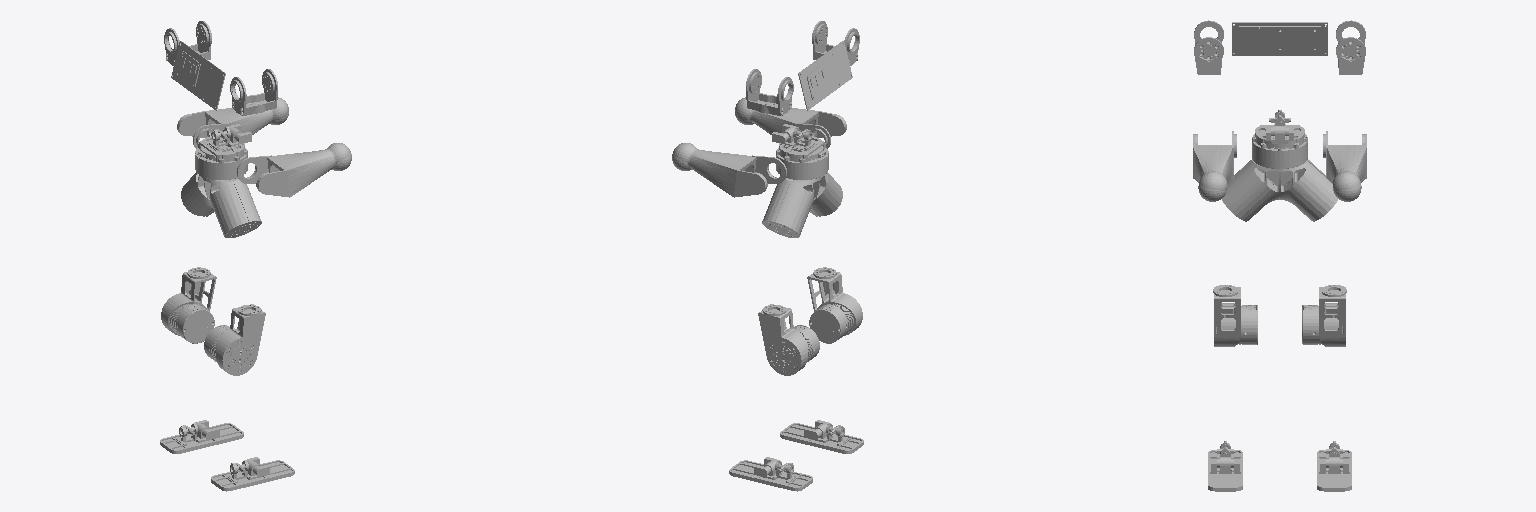
--- Render facts (derived) ---
Views: 3 orthographic renders of the robot side by side, from view 1: azimuth 30°, elevation 25°; view 2: azimuth 150°, elevation 25°; view 3: azimuth 270°, elevation 25°.
Robot: h780a_asm.SLDASM — 28 links, 27 joints (23 revolute, 4 fixed); root link base_link; default pose: all joints at 0.
Visible links, largest first — view 1: right_elbow_pitch_link, base_link, right_hip_yaw_link, left_hip_yaw_link, waist_yaw_link, left_elbow_pitch_link, imu_link, right_ankle_roll_link, left_ankle_roll_link, right_shoulder_roll_link, left_shoulder_roll_link; view 2: left_elbow_pitch_link, base_link, left_hip_yaw_link, right_hip_yaw_link, waist_yaw_link, right_elbow_pitch_link, imu_link, left_ankle_roll_link, right_ankle_roll_link, left_shoulder_roll_link, right_shoulder_roll_link; view 3: base_link, imu_link, waist_yaw_link, right_hip_yaw_link, left_hip_yaw_link, left_elbow_pitch_link, right_elbow_pitch_link, left_ankle_roll_link, right_ankle_roll_link, left_shoulder_roll_link, right_shoulder_roll_link.
Link boxes in pixels (<box>): right_elbow_pitch_link: <box>237,143,350,197</box>; base_link: <box>181,172,261,237</box>; right_hip_yaw_link: <box>204,304,265,375</box>; left_hip_yaw_link: <box>161,267,216,343</box>; waist_yaw_link: <box>195,124,251,179</box>; left_elbow_pitch_link: <box>177,97,288,148</box>; imu_link: <box>171,41,225,110</box>; right_ankle_roll_link: <box>211,457,294,491</box>; left_ankle_roll_link: <box>160,420,243,453</box>; right_shoulder_roll_link: <box>230,69,277,115</box>; left_shoulder_roll_link: <box>164,21,211,65</box>; left_elbow_pitch_link: <box>673,143,786,197</box>; base_link: <box>762,172,842,237</box>; left_hip_yaw_link: <box>758,304,819,375</box>; right_hip_yaw_link: <box>807,267,862,343</box>; waist_yaw_link: <box>772,124,828,179</box>; right_elbow_pitch_link: <box>735,97,846,148</box>; imu_link: <box>798,41,852,110</box>; left_ankle_roll_link: <box>729,457,812,491</box>; right_ankle_roll_link: <box>780,420,863,453</box>; left_shoulder_roll_link: <box>746,69,793,115</box>; right_shoulder_roll_link: <box>812,21,859,65</box>; base_link: <box>1222,160,1337,221</box>; imu_link: <box>1232,22,1327,55</box>; waist_yaw_link: <box>1252,110,1307,168</box>; right_hip_yaw_link: <box>1213,285,1257,346</box>; left_hip_yaw_link: <box>1302,285,1346,346</box>; left_elbow_pitch_link: <box>1323,131,1366,190</box>; right_elbow_pitch_link: <box>1193,131,1236,190</box>; left_ankle_roll_link: <box>1317,441,1351,491</box>; right_ankle_roll_link: <box>1208,441,1242,491</box>; left_shoulder_roll_link: <box>1336,20,1365,74</box>; right_shoulder_roll_link: <box>1194,20,1223,74</box>.
Bounding box of the posed robot: 0.2205 × 0.244 × 0.678 m (x, y, z).
14 mesh visuals loaded from 26 distinct referenced files (14 binary STL); not drawn: 12 (reference not matched to a file when rendering).

robot.urdf — h780a_asm.SLDASM:
<?xml version='1.0' encoding='utf-8'?>
<robot name="h780a_asm.SLDASM">
  <link name="base_link">
    <inertial>
      <origin xyz="-0.000608839400159668 -2.48606142651706E-05 0.0185366559303592" rpy="0 0 0" />
      <mass value="1.01914368" />
      <inertia ixx="0.00255038" ixy="0.00000039" ixz="0.00001327" iyy="0.00071478" iyz="0.00000166" izz="0.00236144" />
    </inertial>
    <visual>
      <origin xyz="0 0 0" rpy="0 0 0" />
      <geometry>
        <mesh filename="meshes/base_link.STL" />
      </geometry>
      <material name="">
        <color rgba="0.752941176470588 0.752941176470588 0.752941176470588 1" />
      </material>
    </visual>
    <collision>
      <origin xyz="0 0 0" rpy="0 0 0" />
      <geometry>
        <mesh filename="meshes/base_link.STL" />
      </geometry>
    </collision>
  </link>
  <link name="left_hip_pitch_link">
    <inertial>
      <origin xyz="-0.00367018673699777 0.0303085638249689 -0.014826132332809" rpy="0 0 0" />
      <mass value="0.37173446" />
      <inertia ixx="0.00022549" ixy="-0.00000031" ixz="-0.00000415" iyy="0.00023463" iyz="0.00000067" izz="0.00022051" />
    </inertial>
    <visual>
      <origin xyz="0 0 0" rpy="0 0 0" />
      <geometry>
        <mesh filename="meshes/left_hip_pitch_link.STL" />
      </geometry>
      <material name="">
        <color rgba="0.752941176470588 0.752941176470588 0.752941176470588 1" />
      </material>
    </visual>
    <collision>
      <origin xyz="0 0 0" rpy="0 0 0" />
      <geometry>
        <mesh filename="meshes/left_hip_pitch_link.STL" />
      </geometry>
    </collision>
  </link>
  <joint name="left_hip_pitch_joint" type="revolute">
    <origin xyz="0 0.064627 -0.009421" rpy="-0.7854 0 0" />
    <parent link="base_link" />
    <child link="left_hip_pitch_link" />
    <axis xyz="0 1 0" />
    <limit lower="-2.5307" upper="2.8797" effort="34" velocity="8.6917" />
  </joint>
  <link name="left_hip_roll_link">
    <inertial>
      <origin xyz="-0.00102397487211744 0.00036482482680926 -0.0522763821229738" rpy="0 0 0" />
      <mass value="0.40622809" />
      <inertia ixx="0.00044245" ixy="0.00000046" ixz="-0.00005459" iyy="0.00045225" iyz="0.00000242" izz="0.00022192" />
    </inertial>
    <visual>
      <origin xyz="0 0 0" rpy="0 0 0" />
      <geometry>
        <mesh filename="meshes/left_hip_roll_link.STL" />
      </geometry>
      <material name="">
        <color rgba="0.752941176470588 0.752941176470588 0.752941176470588 1" />
      </material>
    </visual>
    <collision>
      <origin xyz="0 0 0" rpy="0 0 0" />
      <geometry>
        <mesh filename="meshes/left_hip_roll_link.STL" />
      </geometry>
    </collision>
  </link>
  <joint name="left_hip_roll_joint" type="revolute">
    <origin xyz="0.014 0.0325 -0.016417" rpy="0.7854 0 0" />
    <parent link="left_hip_pitch_link" />
    <child link="left_hip_roll_link" />
    <axis xyz="1 0 0" />
    <limit lower="-2.3561" upper="1.1344" effort="14" velocity="27.227" />
  </joint>
  <link name="left_hip_yaw_link">
    <inertial>
      <origin xyz="-0.0202458881888117 -0.00554365759553843 -0.0552408872968055" rpy="0 0 0" />
      <mass value="0.45505975" />
      <inertia ixx="0.00036750" ixy="-0.00001161" ixz="-0.00004387" iyy="0.00033281" iyz="-0.00001265" izz="0.00030134" />
    </inertial>
    <visual>
      <origin xyz="0 0 0" rpy="0 0 0" />
      <geometry>
        <mesh filename="meshes/left_hip_yaw_link.STL" />
      </geometry>
      <material name="">
        <color rgba="0.752941176470588 0.752941176470588 0.752941176470588 1" />
      </material>
    </visual>
    <collision>
      <origin xyz="0 0 0" rpy="0 0 0" />
      <geometry>
        <mesh filename="meshes/left_hip_yaw_link.STL" />
      </geometry>
    </collision>
  </link>
  <joint name="left_hip_yaw_joint" type="revolute">
    <origin xyz="-0.009 0 -0.094" rpy="0 0 0" />
    <parent link="left_hip_roll_link" />
    <child link="left_hip_yaw_link" />
    <axis xyz="0 0 1" />
    <limit lower="-2.7576" upper="2.7576" effort="14" velocity="27.2271" />
  </joint>
  <link name="left_knee_pitch_link">
    <inertial>
      <origin xyz="0.0106900580465391 -0.0131440176539647 -0.0900758071495541" rpy="0 0 0" />
      <mass value="0.93760765" />
      <inertia ixx="0.00202162" ixy="0.00000466" ixz="0.00003683" iyy="0.00197911" iyz="-0.00010931" izz="0.00058500" />
    </inertial>
    <visual>
      <origin xyz="0 0 0" rpy="0 0 0" />
      <geometry>
        <mesh filename="meshes/left_knee_pitch_link.STL" />
      </geometry>
      <material name="">
        <color rgba="0.752941176470588 0.752941176470588 0.752941176470588 1" />
      </material>
    </visual>
    <collision>
      <origin xyz="0 0 0" rpy="0 0 0" />
      <geometry>
        <mesh filename="meshes/left_knee_pitch_link.STL" />
      </geometry>
    </collision>
  </link>
  <joint name="left_knee_pitch_joint" type="revolute">
    <origin xyz="-0.026 0.016 -0.065783" rpy="0 0 0" />
    <parent link="left_hip_yaw_link" />
    <child link="left_knee_pitch_link" />
    <axis xyz="0 1 0" />
    <limit lower="-0.0872" upper="2.6703" effort="34" velocity="8.6917" />
  </joint>
  <link name="left_ankle_pitch_link">
    <inertial>
      <origin xyz="0 6.98468129727015E-06 -3.46944695195361E-18" rpy="0 0 0" />
      <mass value="0.01165757" />
      <inertia ixx="0.00000052" ixy="0" ixz="0" iyy="0.00000025" iyz="0" izz="0.00000070" />
    </inertial>
    <visual>
      <origin xyz="0 0 0" rpy="0 0 0" />
      <geometry>
        <mesh filename="meshes/left_ankle_pitch_link.STL" />
      </geometry>
      <material name="">
        <color rgba="0.752941176470588 0.752941176470588 0.752941176470588 1" />
      </material>
    </visual>
    <collision>
      <origin xyz="0 0 0" rpy="0 0 0" />
      <geometry>
        <mesh filename="meshes/left_ankle_pitch_link.STL" />
      </geometry>
    </collision>
  </link>
  <joint name="left_ankle_pitch_joint" type="revolute">
    <origin xyz="0.0085 -0.016 -0.191" rpy="0 0 0" />
    <parent link="left_knee_pitch_link" />
    <child link="left_ankle_pitch_link" />
    <axis xyz="0 1 0" />
    <limit lower="-0.8726" upper="0.5235" effort="14" velocity="27.227" />
  </joint>
  <link name="left_ankle_roll_link">
    <inertial>
      <origin xyz="0.0119807840929058 5.04249419996938E-13 -0.0128798503716553" rpy="0 0 0" />
      <mass value="0.16656846" />
      <inertia ixx=" 0.00003757" ixy="-0.00000000" ixz="-0.00000090" iyy="0.00012095" iyz="-0.00000000" izz="0.00014065" />
    </inertial>
    <visual>
      <origin xyz="0 0 0" rpy="0 0 0" />
      <geometry>
        <mesh filename="meshes/left_ankle_roll_link.STL" />
      </geometry>
      <material name="">
        <color rgba="0.752941176470588 0.752941176470588 0.752941176470588 1" />
      </material>
    </visual>
    <collision>
      <origin xyz="0 0 0" rpy="0 0 0" />
      <geometry>
        <mesh filename="meshes/left_ankle_roll_link.STL" />
      </geometry>
    </collision>
  </link>
  <joint name="left_ankle_roll_joint" type="revolute">
    <origin xyz="0.0113 0 0" rpy="0 0 0" />
    <parent link="left_ankle_pitch_link" />
    <child link="left_ankle_roll_link" />
    <axis xyz="1 0 0" />
    <limit lower="-0.2617" upper="0.2617" effort="14" velocity="27.227" />
  </joint>
  <link name="right_hip_pitch_link">
    <inertial>
      <origin xyz="-0.00334812599759471 -0.0303139985141044 -0.014840625732606" rpy="0 0 0" />
      <mass value="0.37172276" />
      <inertia ixx="0.00022550" ixy="0.00000024" ixz="-0.00000379" iyy="0.00023371" iyz="-0.00000056" izz="0.00021979" />
    </inertial>
    <visual>
      <origin xyz="0 0 0" rpy="0 0 0" />
      <geometry>
        <mesh filename="meshes/right_hip_pitch_link.STL" />
      </geometry>
      <material name="">
        <color rgba="0.752941176470588 0.752941176470588 0.752941176470588 1" />
      </material>
    </visual>
    <collision>
      <origin xyz="0 0 0" rpy="0 0 0" />
      <geometry>
        <mesh filename="meshes/right_hip_pitch_link.STL" />
      </geometry>
    </collision>
  </link>
  <joint name="right_hip_pitch_joint" type="revolute">
    <origin xyz="0 -0.064627 -0.009421" rpy="0.7854 0 0" />
    <parent link="base_link" />
    <child link="right_hip_pitch_link" />
    <axis xyz="0 1 0" />
    <limit lower="-2.5307" upper="2.8797" effort="34" velocity="8.6917" />
  </joint>
  <link name="right_hip_roll_link">
    <inertial>
      <origin xyz="-0.00116006196486454 -0.00051473766608455 -0.0522852931951348" rpy="0 0 0" />
      <mass value="0.40589275" />
      <inertia ixx="0.00044379" ixy="0.00000066" ixz="-0.00005267" iyy=" 0.00044889" iyz="-0.00000321" izz="0.00022004" />
    </inertial>
    <visual>
      <origin xyz="0 0 0" rpy="0 0 0" />
      <geometry>
        <mesh filename="meshes/right_hip_roll_link.STL" />
      </geometry>
      <material name="">
        <color rgba="0.752941176470588 0.752941176470588 0.752941176470588 1" />
      </material>
    </visual>
    <collision>
      <origin xyz="0 0 0" rpy="0 0 0" />
      <geometry>
        <mesh filename="meshes/right_hip_roll_link.STL" />
      </geometry>
    </collision>
  </link>
  <joint name="right_hip_roll_joint" type="revolute">
    <origin xyz="0.0145 -0.0325 -0.016417" rpy="-0.7854 0 0" />
    <parent link="right_hip_pitch_link" />
    <child link="right_hip_roll_link" />
    <axis xyz="1 0 0" />
    <limit lower="-2.3561" upper="1.1344" effort="14" velocity="27.227" />
  </joint>
  <link name="right_hip_yaw_link">
    <inertial>
      <origin xyz="-0.0201578311282279 0.00554368559206414 -0.0552409620376702" rpy="0 0 0" />
      <mass value="0.45505924" />
      <inertia ixx="0.00036750" ixy="0.00001039" ixz="-0.00004306" iyy="0.00033250" iyz="0.00001265" izz="0.00030103" />
    </inertial>
    <visual>
      <origin xyz="0 0 0" rpy="0 0 0" />
      <geometry>
        <mesh filename="meshes/right_hip_yaw_link.STL" />
      </geometry>
      <material name="">
        <color rgba="0.752941176470588 0.752941176470588 0.752941176470588 1" />
      </material>
    </visual>
    <collision>
      <origin xyz="0 0 0" rpy="0 0 0" />
      <geometry>
        <mesh filename="meshes/right_hip_yaw_link.STL" />
      </geometry>
    </collision>
  </link>
  <joint name="right_hip_yaw_joint" type="revolute">
    <origin xyz="-0.0095 0 -0.094" rpy="0 0 0" />
    <parent link="right_hip_roll_link" />
    <child link="right_hip_yaw_link" />
    <axis xyz="0 0 1" />
    <limit lower="-2.7576" upper="2.7576" effort="14" velocity="27.227" />
  </joint>
  <link name="right_knee_pitch_link">
    <inertial>
      <origin xyz="0.0106899921397301 0.0131541025640996 -0.0900760730560312" rpy="0 0 0" />
      <mass value="0.93760852" />
      <inertia ixx="0.00202167" ixy="-0.00000503" ixz="0.00003683" iyy="0.00197912" iyz="0.00010910" izz="0.00058504" />
    </inertial>
    <visual>
      <origin xyz="0 0 0" rpy="0 0 0" />
      <geometry>
        <mesh filename="meshes/right_knee_pitch_link.STL" />
      </geometry>
      <material name="">
        <color rgba="0.752941176470588 0.752941176470588 0.752941176470588 1" />
      </material>
    </visual>
    <collision>
      <origin xyz="0 0 0" rpy="0 0 0" />
      <geometry>
        <mesh filename="meshes/right_knee_pitch_link.STL" />
      </geometry>
    </collision>
  </link>
  <joint name="right_knee_pitch_joint" type="revolute">
    <origin xyz="-0.026 -0.016 -0.065783" rpy="0 0 0" />
    <parent link="right_hip_yaw_link" />
    <child link="right_knee_pitch_link" />
    <axis xyz="0 1 0" />
    <limit lower="-0.0872" upper="2.6703" effort="34" velocity="8.6917" />
  </joint>
  <link name="right_ankle_pitch_link">
    <inertial>
      <origin xyz="0 -6.98468129727015E-06 -3.46944695195361E-18" rpy="0 0 0" />
      <mass value="0.01165757" />
      <inertia ixx="0.00000052" ixy="0" ixz="0" iyy="0.00000025" iyz="0" izz="0.00000070" />
    </inertial>
    <visual>
      <origin xyz="0 0 0" rpy="0 0 0" />
      <geometry>
        <mesh filename="meshes/right_ankle_pitch_link.STL" />
      </geometry>
      <material name="">
        <color rgba="0.752941176470588 0.752941176470588 0.752941176470588 1" />
      </material>
    </visual>
    <collision>
      <origin xyz="0 0 0" rpy="0 0 0" />
      <geometry>
        <mesh filename="meshes/right_ankle_pitch_link.STL" />
      </geometry>
    </collision>
  </link>
  <joint name="right_ankle_pitch_joint" type="revolute">
    <origin xyz="0.0085 0.016 -0.191" rpy="0 0 0" />
    <parent link="right_knee_pitch_link" />
    <child link="right_ankle_pitch_link" />
    <axis xyz="0 1 0" />
    <limit lower="-0.8726" upper="0.5235" effort="14" velocity="27.227" />
  </joint>
  <link name="right_ankle_roll_link">
    <inertial>
      <origin xyz="0.0119807840929058 5.04207786633515E-13 -0.0128798503716531" rpy="0 0 0" />
      <mass value="0.16656846" />
      <inertia ixx="0.00003757" ixy="0" ixz="-0.00000090" iyy="0.00012095" iyz="0" izz=" 0.00014065" />
    </inertial>
    <visual>
      <origin xyz="0 0 0" rpy="0 0 0" />
      <geometry>
        <mesh filename="meshes/right_ankle_roll_link.STL" />
      </geometry>
      <material name="">
        <color rgba="0.752941176470588 0.752941176470588 0.752941176470588 1" />
      </material>
    </visual>
    <collision>
      <origin xyz="0 0 0" rpy="0 0 0" />
      <geometry>
        <mesh filename="meshes/right_ankle_roll_link.STL" />
      </geometry>
    </collision>
  </link>
  <joint name="right_ankle_roll_joint" type="revolute">
    <origin xyz="0.0113 0 0" rpy="0 0 0" />
    <parent link="right_ankle_pitch_link" />
    <child link="right_ankle_roll_link" />
    <axis xyz="1 0 0" />
    <limit lower="-0.2617" upper="0.2617" effort="14" velocity="27.227" />
  </joint>
  <link name="waist_yaw_link">
    <inertial>
      <origin xyz="0.00874371351982963 7.38908869579253E-06 0.0347263914958253" rpy="0 0 0" />
      <mass value="0.49591418" />
      <inertia ixx="0.00033819" ixy="-0.00000009" ixz="-0.00006265" iyy="0.00038896" iyz="-0.00000012" izz="0.00040888" />
    </inertial>
    <visual>
      <origin xyz="0 0 0" rpy="0 0 0" />
      <geometry>
        <mesh filename="meshes/waist_yaw_link.STL" />
      </geometry>
      <material name="">
        <color rgba="0.752941176470588 0.752941176470588 0.752941176470588 1" />
      </material>
    </visual>
    <collision>
      <origin xyz="0 0 0" rpy="0 0 0" />
      <geometry>
        <mesh filename="meshes/waist_yaw_link.STL" />
      </geometry>
    </collision>
  </link>
  <joint name="waist_yaw_joint" type="revolute">
    <origin xyz="0 0 0.059956" rpy="0 0 0" />
    <parent link="base_link" />
    <child link="waist_yaw_link" />
    <axis xyz="0 0 1" />
    <limit lower="-2.6179" upper="2.6179" effort="17" velocity="28.798" />
  </joint>
  <link name="waist_roll_link">
    <inertial>
      <origin xyz="-0.0113 6.98468129726652E-06 0" rpy="0 0 0" />
      <mass value="0.01165757" />
      <inertia ixx="0.00000052" ixy="0" ixz="0" iyy="0.00000025" iyz="0" izz="0.00000070" />
    </inertial>
    <visual>
      <origin xyz="0 0 0" rpy="0 0 0" />
      <geometry>
        <mesh filename="meshes/waist_roll_link.STL" />
      </geometry>
      <material name="">
        <color rgba="0.752941176470588 0.752941176470588 0.752941176470588 1" />
      </material>
    </visual>
    <collision>
      <origin xyz="0 0 0" rpy="0 0 0" />
      <geometry>
        <mesh filename="meshes/waist_roll_link.STL" />
      </geometry>
    </collision>
  </link>
  <joint name="waist_roll_joint" type="revolute">
    <origin xyz="0.0113 0 0.0615" rpy="0 0 0" />
    <parent link="waist_yaw_link" />
    <child link="waist_roll_link" />
    <axis xyz="1 0 0" />
    <limit lower="-0.7853" upper="0.7853" effort="14" velocity="27.227" />
  </joint>
  <link name="waist_pitch_link">
    <inertial>
      <origin xyz="0.00973385887256413 3.54184590764736E-05 0.0857754438416116" rpy="0 0 0" />
      <mass value="2.24196344" />
      <inertia ixx="0.00742123" ixy="0.00000587" ixz="-0.00039888" iyy="0.00478425" iyz="0.00000968" izz="0.00593152" />
    </inertial>
    <visual>
      <origin xyz="0 0 0" rpy="0 0 0" />
      <geometry>
        <mesh filename="meshes/waist_pitch_link.STL" />
      </geometry>
      <material name="">
        <color rgba="0.752941176470588 0.752941176470588 0.752941176470588 1" />
      </material>
    </visual>
    <collision>
      <origin xyz="0 0 0" rpy="0 0 0" />
      <geometry>
        <mesh filename="meshes/waist_pitch_link.STL" />
      </geometry>
    </collision>
  </link>
  <joint name="waist_pitch_joint" type="revolute">
    <origin xyz="-0.0113 0 0" rpy="0 0 0" />
    <parent link="waist_roll_link" />
    <child link="waist_pitch_link" />
    <axis xyz="0 1 0" />
    <limit lower="-0.5235" upper="0.5235" effort="14" velocity="27.227" />
  </joint>
  <link name="imu_link">
    <inertial>
      <origin xyz="0.00417470448182465 -0.0049053748844991 -0.00851546070388176" rpy="0 0 0" />
      <mass value="0.08627746" />
      <inertia ixx="0.00012477" ixy="0.00000101" ixz="-0.00000491" iyy="0.00002043" iyz="-0.00000046" izz="0.00010754" />
    </inertial>
    <visual>
      <origin xyz="0 0 0" rpy="0 0 0" />
      <geometry>
        <mesh filename="meshes/imu_link.STL" />
      </geometry>
      <material name="">
        <color rgba="0.752941176470588 0.752941176470588 0.752941176470588 1" />
      </material>
    </visual>
    <collision>
      <origin xyz="0 0 0" rpy="0 0 0" />
      <geometry>
        <mesh filename="meshes/imu_link.STL" />
      </geometry>
    </collision>
  </link>
  <joint name="imu_joint" type="fixed">
    <origin xyz="-0.043483 0.00815 0.11488" rpy="0 0 0" />
    <parent link="waist_pitch_link" />
    <child link="imu_link" />
    <axis xyz="0 0 0" />
  </joint>
  <link name="left_hand_link"><inertial><origin xyz="0 0 0" rpy="0 0 0" /><mass value="0.1" /><inertia ixx="0.0001" ixy="0.0" ixz="0.0" iyy="0.0001" iyz="0.0" izz="0.0001" /></inertial><visual><origin xyz="0 0 0" rpy="0 0 0" /><geometry><sphere radius="0.02" /></geometry><material name=""><color rgba="0.752941176470588 0.752941176470588 0.752941176470588 1" /></material></visual></link><link name="right_hand_link"><inertial><origin xyz="0 0 0" rpy="0 0 0" /><mass value="0.1" /><inertia ixx="0.0001" ixy="0.0" ixz="0.0" iyy="0.0001" iyz="0.0" izz="0.0001" /></inertial><visual><origin xyz="0 0 0" rpy="0 0 0" /><geometry><sphere radius="0.02" /></geometry><material name=""><color rgba="0.752941176470588 0.752941176470588 0.752941176470588 1" /></material></visual></link><link name="head_link">
    <inertial>
      <origin xyz="0.00317975104625335 3.53716959748506E-06 0.0575640557329804" rpy="0 0 0" />
      <mass value="0.07534940" />
      <inertia ixx="0.00009288" ixy="0" ixz="-0.00000292" iyy="0.00007927" iyz="0" izz="0.00006791" />
    </inertial>
    <visual>
      <origin xyz="0 0 0" rpy="0 0 0" />
      <geometry>
        <mesh filename="meshes/head_link.STL" />
      </geometry>
      <material name="">
        <color rgba="0.752941176470588 0.752941176470588 0.752941176470588 1" />
      </material>
    </visual>
    <collision>
      <origin xyz="0 0 0" rpy="0 0 0" />
      <geometry>
        <mesh filename="meshes/head_link.STL" />
      </geometry>
    </collision>
  </link>
  <joint name="left_hand_link_joint" type="fixed"><origin xyz="0.138 -0.021 0.0" rpy="0 0 0" /><parent link="left_elbow_pitch_link" /><child link="left_hand_link" /></joint><joint name="right_hand_link_joint" type="fixed"><origin xyz="0.138 0.021 0.0" rpy="0 0 0" /><parent link="right_elbow_pitch_link" /><child link="right_hand_link" /></joint><joint name="head_joint" type="fixed">
    <origin xyz="0 0 0.16075" rpy="0 0 0" />
    <parent link="waist_pitch_link" />
    <child link="head_link" />
    <axis xyz="0 0 0" />
  </joint>
  <link name="left_shoulder_pitch_link">
    <inertial>
      <origin xyz="-0.000804057631007502 0.0256654529559015 -2.13936679138715E-06" rpy="0 0 0" />
      <mass value="0.22556216" />
      <inertia ixx="0.00008458" ixy="-0.00000111" ixz="-0.00000002" iyy="0.00010567" iyz="0.00000004" izz="0.00010965" />
    </inertial>
    <visual>
      <origin xyz="0 0 0" rpy="0 0 0" />
      <geometry>
        <mesh filename="meshes/left_shoulder_pitch_link.STL" />
      </geometry>
      <material name="">
        <color rgba="0.752941176470588 0.752941176470588 0.752941176470588 1" />
      </material>
    </visual>
    <collision>
      <origin xyz="0 0 0" rpy="0 0 0" />
      <geometry>
        <mesh filename="meshes/left_shoulder_pitch_link.STL" />
      </geometry>
    </collision>
  </link>
  <joint name="left_shoulder_pitch_joint" type="revolute">
    <origin xyz="0 0.07 0.11875" rpy="0 0 0" />
    <parent link="waist_pitch_link" />
    <child link="left_shoulder_pitch_link" />
    <axis xyz="0 1 0" />
    <limit lower="-3.0892" upper="2.6703" effort="14" velocity="27.227" />
  </joint>
  <link name="left_shoulder_roll_link">
    <inertial>
      <origin xyz="-0.02543084211996 0.000337234455000127 -0.0195712967086616" rpy="0 0 0" />
      <mass value="0.02622715" />
      <inertia ixx="0.00001054" ixy="0.00000009" ixz="-0.00000129" iyy="0.00002089" iyz="0.00000001" izz="0.00001746" />
    </inertial>
    <visual>
      <origin xyz="0 0 0" rpy="0 0 0" />
      <geometry>
        <mesh filename="meshes/left_shoulder_roll_link.STL" />
      </geometry>
      <material name="">
        <color rgba="0.752941176470588 0.752941176470588 0.752941176470588 1" />
      </material>
    </visual>
    <collision>
      <origin xyz="0 0 0" rpy="0 0 0" />
      <geometry>
        <mesh filename="meshes/left_shoulder_roll_link.STL" />
      </geometry>
    </collision>
  </link>
  <joint name="left_shoulder_roll_joint" type="revolute">
    <origin xyz="0.022 0.029 0" rpy="0 0 0" />
    <parent link="left_shoulder_pitch_link" />
    <child link="left_shoulder_roll_link" />
    <axis xyz="1 0 0" />
    <limit lower="-3.3684" upper="0.2268" effort="5.5" velocity="10.472" />
  </joint>
  <link name="left_shoulder_yaw_link">
    <inertial>
      <origin xyz="0.00444472348429583 -0.00278494229066625 -0.0775977480541095" rpy="0 0 0" />
      <mass value="0.44929259" />
      <inertia ixx="0.00120051" ixy="0.00000543" ixz="0.00009934" iyy="0.00119165" iyz="-0.00004262" izz="0.00020437" />
    </inertial>
    <visual>
      <origin xyz="0 0 0" rpy="0 0 0" />
      <geometry>
        <mesh filename="meshes/left_shoulder_yaw_link.STL" />
      </geometry>
      <material name="">
        <color rgba="0.752941176470588 0.752941176470588 0.752941176470588 1" />
      </material>
    </visual>
    <collision>
      <origin xyz="0 0 0" rpy="0 0 0" />
      <geometry>
        <mesh filename="meshes/left_shoulder_yaw_link.STL" />
      </geometry>
    </collision>
  </link>
  <joint name="left_shoulder_yaw_joint" type="revolute">
    <origin xyz="-0.022 0 -0.037" rpy="0 0 0" />
    <parent link="left_shoulder_roll_link" />
    <child link="left_shoulder_yaw_link" />
    <axis xyz="0 0 1" />
    <limit lower="-2.6179" upper="2.6179" effort="5.5" velocity="10.472" />
  </joint>
  <link name="left_elbow_pitch_link">
    <inertial>
      <origin xyz="0.063874855183702 -0.02254503223874 -0.00288865176867181" rpy="0 0 0" />
      <mass value="0.05739494" />
      <inertia ixx="0.00003419" ixy="-0.00000082" ixz="-0.00000505" iyy="0.00013282" iyz="-0.00000017" izz="0.00014380" />
    </inertial>
    <visual>
      <origin xyz="0 0 0" rpy="0 0 0" />
      <geometry>
        <mesh filename="meshes/left_elbow_pitch_link.STL" />
      </geometry>
      <material name="">
        <color rgba="0.752941176470588 0.752941176470588 0.752941176470588 1" />
      </material>
    </visual>
    <collision>
      <origin xyz="0 0 0" rpy="0 0 0" />
      <geometry>
        <mesh filename="meshes/left_elbow_pitch_link.STL" />
      </geometry>
    </collision>
  </link>
  <joint name="left_elbow_pitch_joint" type="revolute">
    <origin xyz="0.01 0.016 -0.117" rpy="0 0 0" />
    <parent link="left_shoulder_yaw_link" />
    <child link="left_elbow_pitch_link" />
    <axis xyz="0 1 0" />
    <limit lower="-0.9599" upper="2.0943" effort="5.5" velocity="10.472" />
  </joint>
  <link name="right_shoulder_pitch_link">
    <inertial>
      <origin xyz="-0.000748599315728274 -0.0257586128273268 8.77658581344143E-05" rpy="0 0 0" />
      <mass value="0.22714509" />
      <inertia ixx="0.00008538" ixy="0.00000077" ixz="0.00000041" iyy="0.00010661" iyz="0" izz="0.00011037" />
    </inertial>
    <visual>
      <origin xyz="0 0 0" rpy="0 0 0" />
      <geometry>
        <mesh filename="meshes/right_shoulder_pitch_link.ST" />
      </geometry>
      <material name="">
        <color rgba="0.752941176470588 0.752941176470588 0.752941176470588 1" />
      </material>
    </visual>
    <collision>
      <origin xyz="0 0 0" rpy="0 0 0" />
      <geometry>
        <mesh filename="meshes/right_shoulder_pitch_link.STL" />
      </geometry>
    </collision>
  </link>
  <joint name="right_shoulder_pitch_joint" type="revolute">
    <origin xyz="0 -0.07 0.11875" rpy="0 0 0" />
    <parent link="waist_pitch_link" />
    <child link="right_shoulder_pitch_link" />
    <axis xyz="0 1 0" />
    <limit lower="-3.0892" upper="2.6703" effort="14" velocity="27.227" />
  </joint>
  <link name="right_shoulder_roll_link">
    <inertial>
      <origin xyz="-0.0254308400602421 -0.000337237489669892 -0.0195712956310455" rpy="0 0 0" />
      <mass value="0.02622715" />
      <inertia ixx="0.00001054" ixy="-0.00000009" ixz="-0.00000129" iyy="0.00002089" iyz="-0.00000001" izz="0.00001746" />
    </inertial>
    <visual>
      <origin xyz="0 0 0" rpy="0 0 0" />
      <geometry>
        <mesh filename="meshes/right_shoulder_roll_link.STL" />
      </geometry>
      <material name="">
        <color rgba="0.752941176470588 0.752941176470588 0.752941176470588 1" />
      </material>
    </visual>
    <collision>
      <origin xyz="0 0 0" rpy="0 0 0" />
      <geometry>
        <mesh filename="meshes/right_shoulder_roll_link.STL" />
      </geometry>
    </collision>
  </link>
  <joint name="right_shoulder_roll_joint" type="revolute">
    <origin xyz="0.022 -0.029 0" rpy="0 0 0" />
    <parent link="right_shoulder_pitch_link" />
    <child link="right_shoulder_roll_link" />
    <axis xyz="1 0 0" />
    <limit lower="-3.3684" upper="0.2268" effort="5.5" velocity="10.472" />
  </joint>
  <link name="right_shoulder_yaw_link">
    <inertial>
      <origin xyz="0.00438406680969485 0.00263148490841031 -0.0777683195243113" rpy="0 0 0" />
      <mass value="0.45019777" />
      <inertia ixx="0.00120204" ixy="-0.00000477" ixz="0.00009733" iyy="0.00119243" iyz="0.00004383" izz="0.00020438" />
    </inertial>
    <visual>
      <origin xyz="0 0 0" rpy="0 0 0" />
      <geometry>
        <mesh filename="meshes/right_shoulder_yaw_link.STL" />
      </geometry>
      <material name="">
        <color rgba="0.752941176470588 0.752941176470588 0.752941176470588 1" />
      </material>
    </visual>
    <collision>
      <origin xyz="0 0 0" rpy="0 0 0" />
      <geometry>
        <mesh filename="meshes/right_shoulder_yaw_link.STL" />
      </geometry>
    </collision>
  </link>
  <joint name="right_shoulder_yaw_joint" type="revolute">
    <origin xyz="-0.022 0 -0.037" rpy="0 0 0" />
    <parent link="right_shoulder_roll_link" />
    <child link="right_shoulder_yaw_link" />
    <axis xyz="0 0 1" />
    <limit lower="-2.6179" upper="2.6179" effort="5.5" velocity="10.472" />
  </joint>
  <link name="right_elbow_pitch_link">
    <inertial>
      <origin xyz="0.0638744705614481 0.0225451387720636 -0.00288874333252498" rpy="0 0 0" />
      <mass value="0.05739454" />
      <inertia ixx="0.00003419" ixy="0.00000082" ixz="-0.00000505" iyy="0.00013282" iyz="0.00000017" izz=" 0.00014380" />
    </inertial>
    <visual>
      <origin xyz="0 0 0" rpy="0 0 0" />
      <geometry>
        <mesh filename="meshes/right_elbow_pitch_link.STL" />
      </geometry>
      <material name="">
        <color rgba="0.752941176470588 0.752941176470588 0.752941176470588 1" />
      </material>
    </visual>
    <collision>
      <origin xyz="0 0 0" rpy="0 0 0" />
      <geometry>
        <mesh filename="meshes/right_elbow_pitch_link.STL" />
      </geometry>
    </collision>
  </link>
  <joint name="right_elbow_pitch_joint" type="revolute">
    <origin xyz="0.01 -0.016 -0.117" rpy="0 0 0" />
    <parent link="right_shoulder_yaw_link" />
    <child link="right_elbow_pitch_link" />
    <axis xyz="0 1 0" />
    <limit lower="-0.9599" upper="2.0943" effort="5.5" velocity="10.472" />
  </joint>
</robot>
